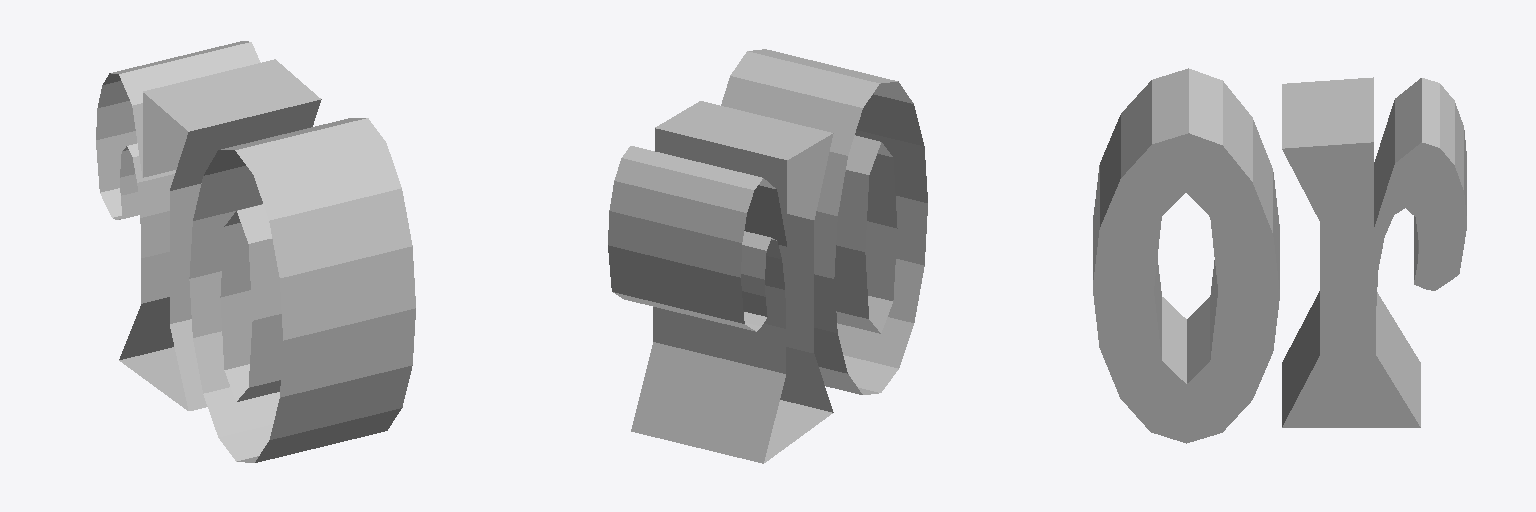
File: typemesh_or.obj
3 renders of one model, left to right at view 1: azimuth 30°, elevation 25°; view 2: azimuth 150°, elevation 25°; view 3: azimuth 270°, elevation 25°, orthographic.
Parts seen in each view (by area): view 1: typeMesh_or group2; view 2: typeMesh_or group2; view 3: typeMesh_or group2.
Boxes of the visible parts, x1,y1,x2,y2 form: typeMesh_or group2: [96, 41, 415, 462]; typeMesh_or group2: [608, 49, 927, 463]; typeMesh_or group2: [1093, 68, 1466, 443].
Size of the model in its own units: 0.0946 by 0.2111 by 0.231.